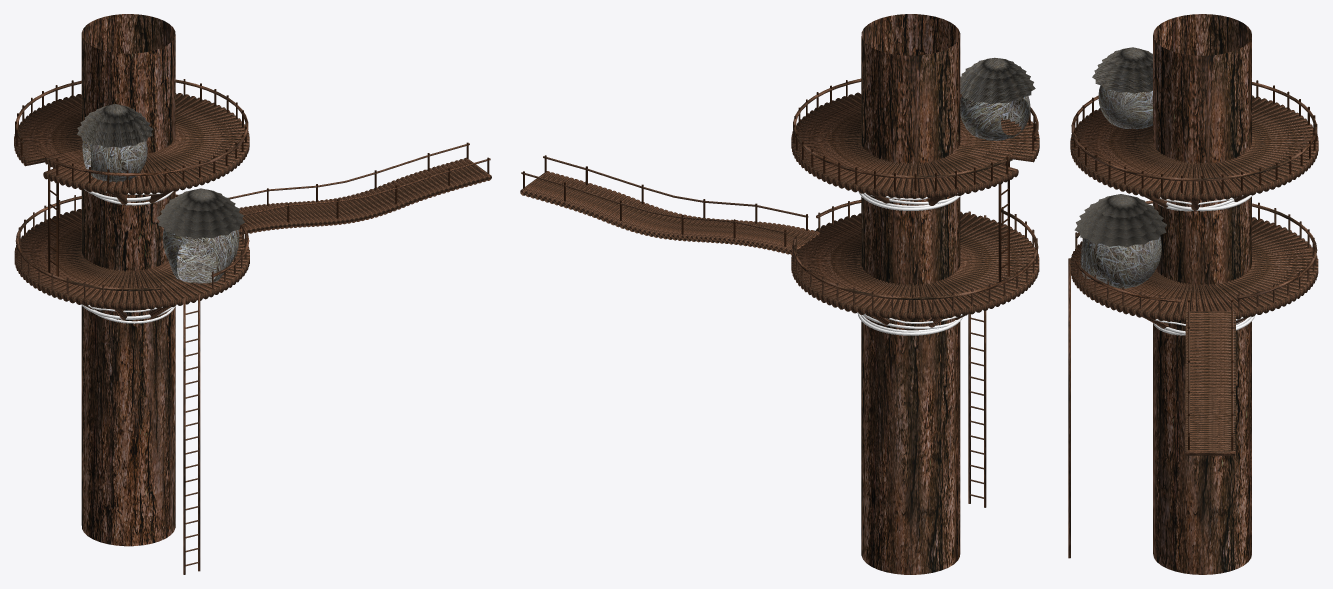
Rendered from SortedTree.gltf.
3 renders of one model, left to right at view 1: azimuth 30°, elevation 25°; view 2: azimuth 150°, elevation 25°; view 3: azimuth 270°, elevation 25°, orthographic. The views are drawn at different scales.
Visible parts, largest first — view 1: Tree, TopBase, LowerBase, Bridge, LowerHut, TopHut; view 2: Tree, LowerBase, TopBase, Bridge, TopHut; view 3: Tree, TopBase, LowerBase, Bridge, LowerHut, TopHut.
Part boxes in pixels (<box>): Tree: <box>81,14,175,546</box>; TopBase: <box>14,79,249,276</box>; LowerBase: <box>14,194,249,574</box>; Bridge: <box>228,142,491,235</box>; LowerHut: <box>157,188,244,283</box>; TopHut: <box>77,104,152,182</box>; Tree: <box>861,14,960,574</box>; LowerBase: <box>791,199,1039,507</box>; TopBase: <box>791,76,1039,282</box>; Bridge: <box>520,155,819,254</box>; TopHut: <box>960,57,1035,140</box>; Tree: <box>1153,14,1251,574</box>; TopBase: <box>1070,80,1318,211</box>; LowerBase: <box>1068,200,1318,558</box>; Bridge: <box>1185,300,1235,455</box>; LowerHut: <box>1074,194,1166,288</box>; TopHut: <box>1092,47,1152,129</box>.
Bounding box in the file's own units: 11.24 × 11.57 × 5.06.
7 materials, 6 textured.
